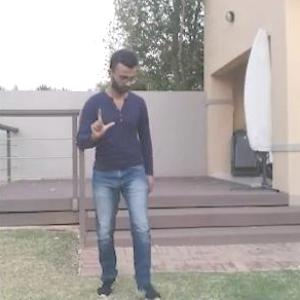land_hand: (85, 102, 117, 142)
